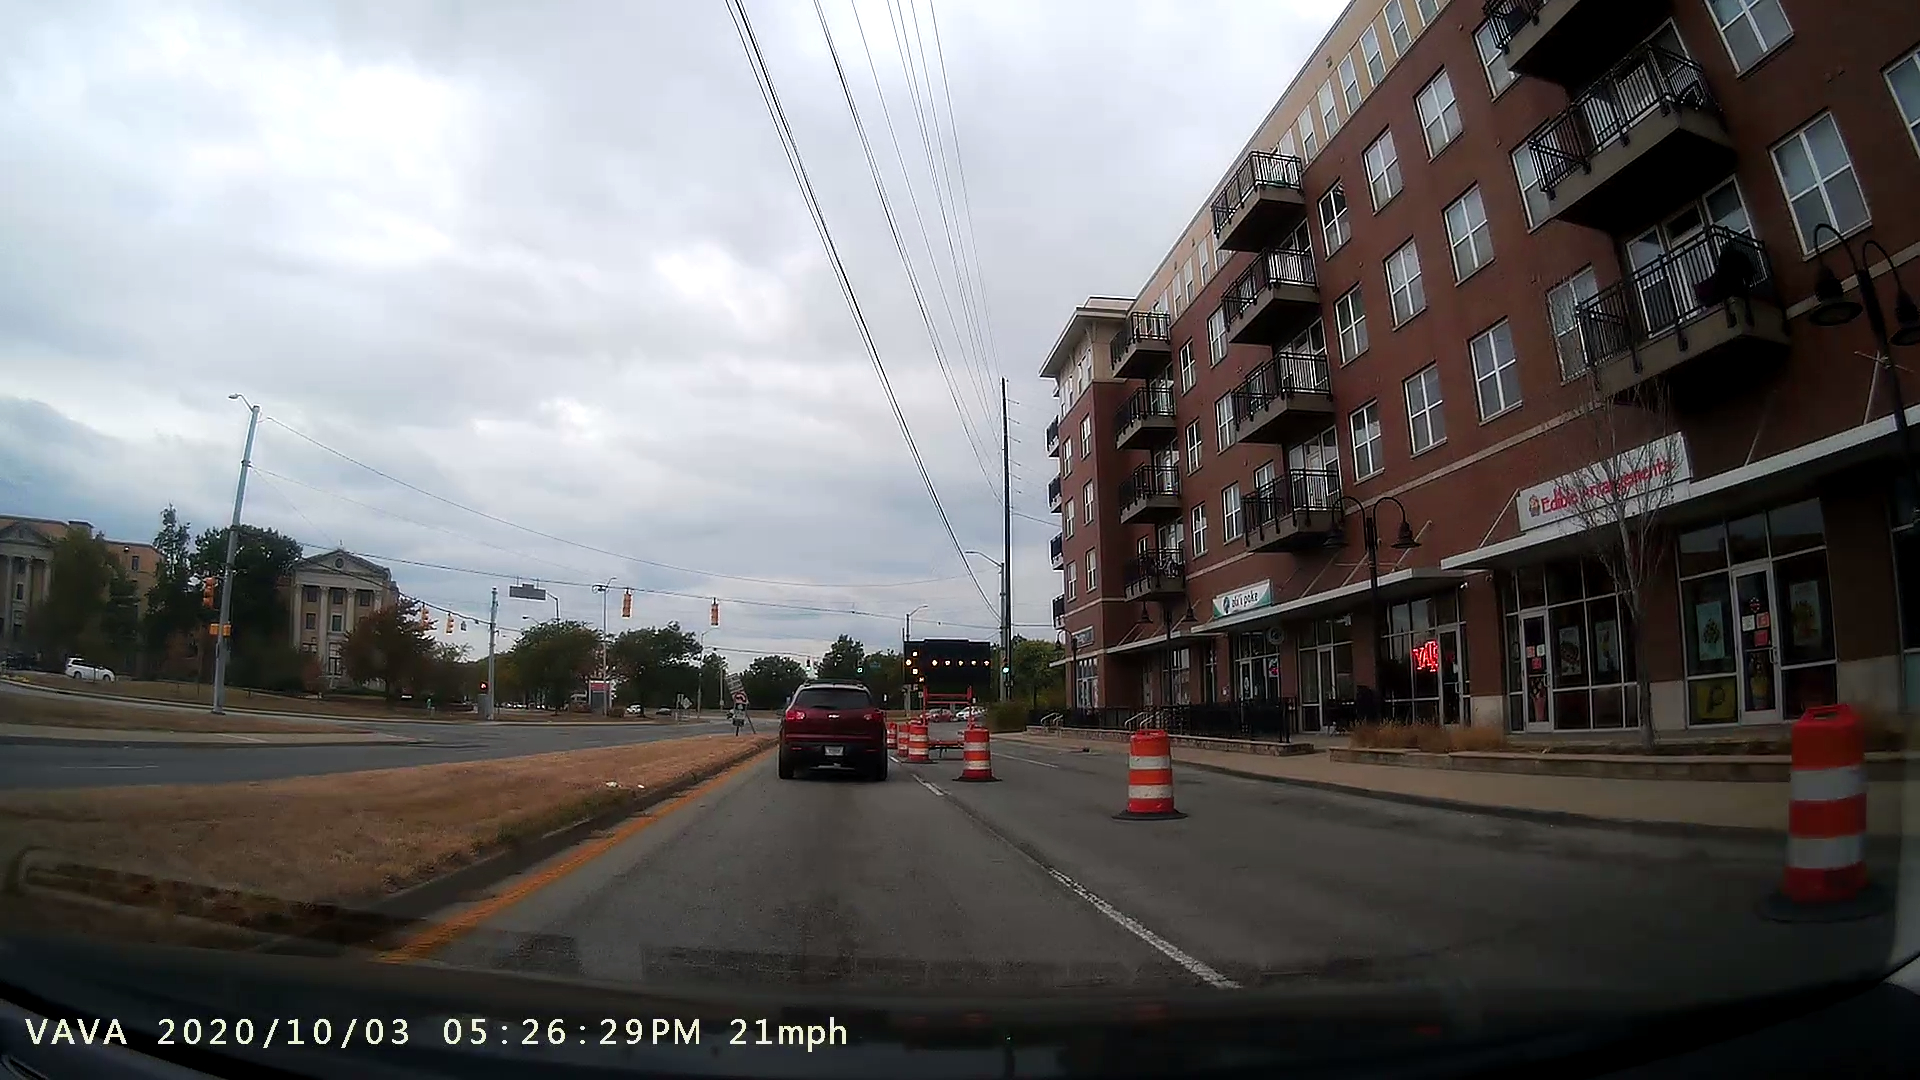const_barrel: (1754, 687, 1909, 927), (1102, 717, 1200, 822), (949, 719, 1004, 790)
